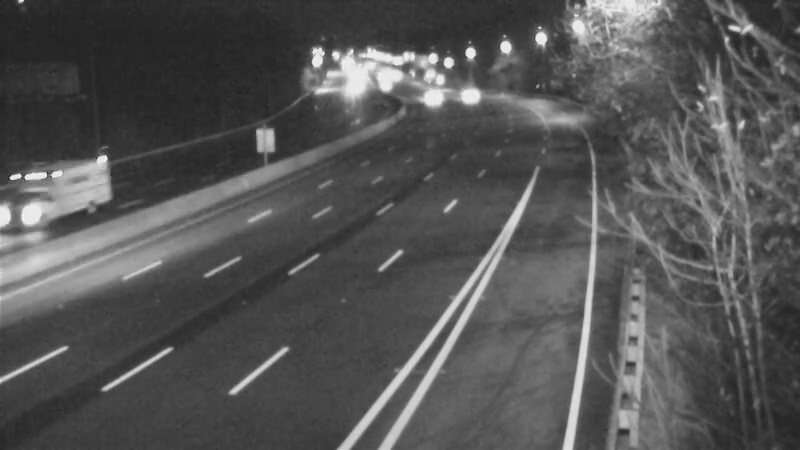vehicle: (25, 158, 105, 238), (362, 59, 412, 109), (440, 65, 490, 115), (402, 75, 452, 125)
